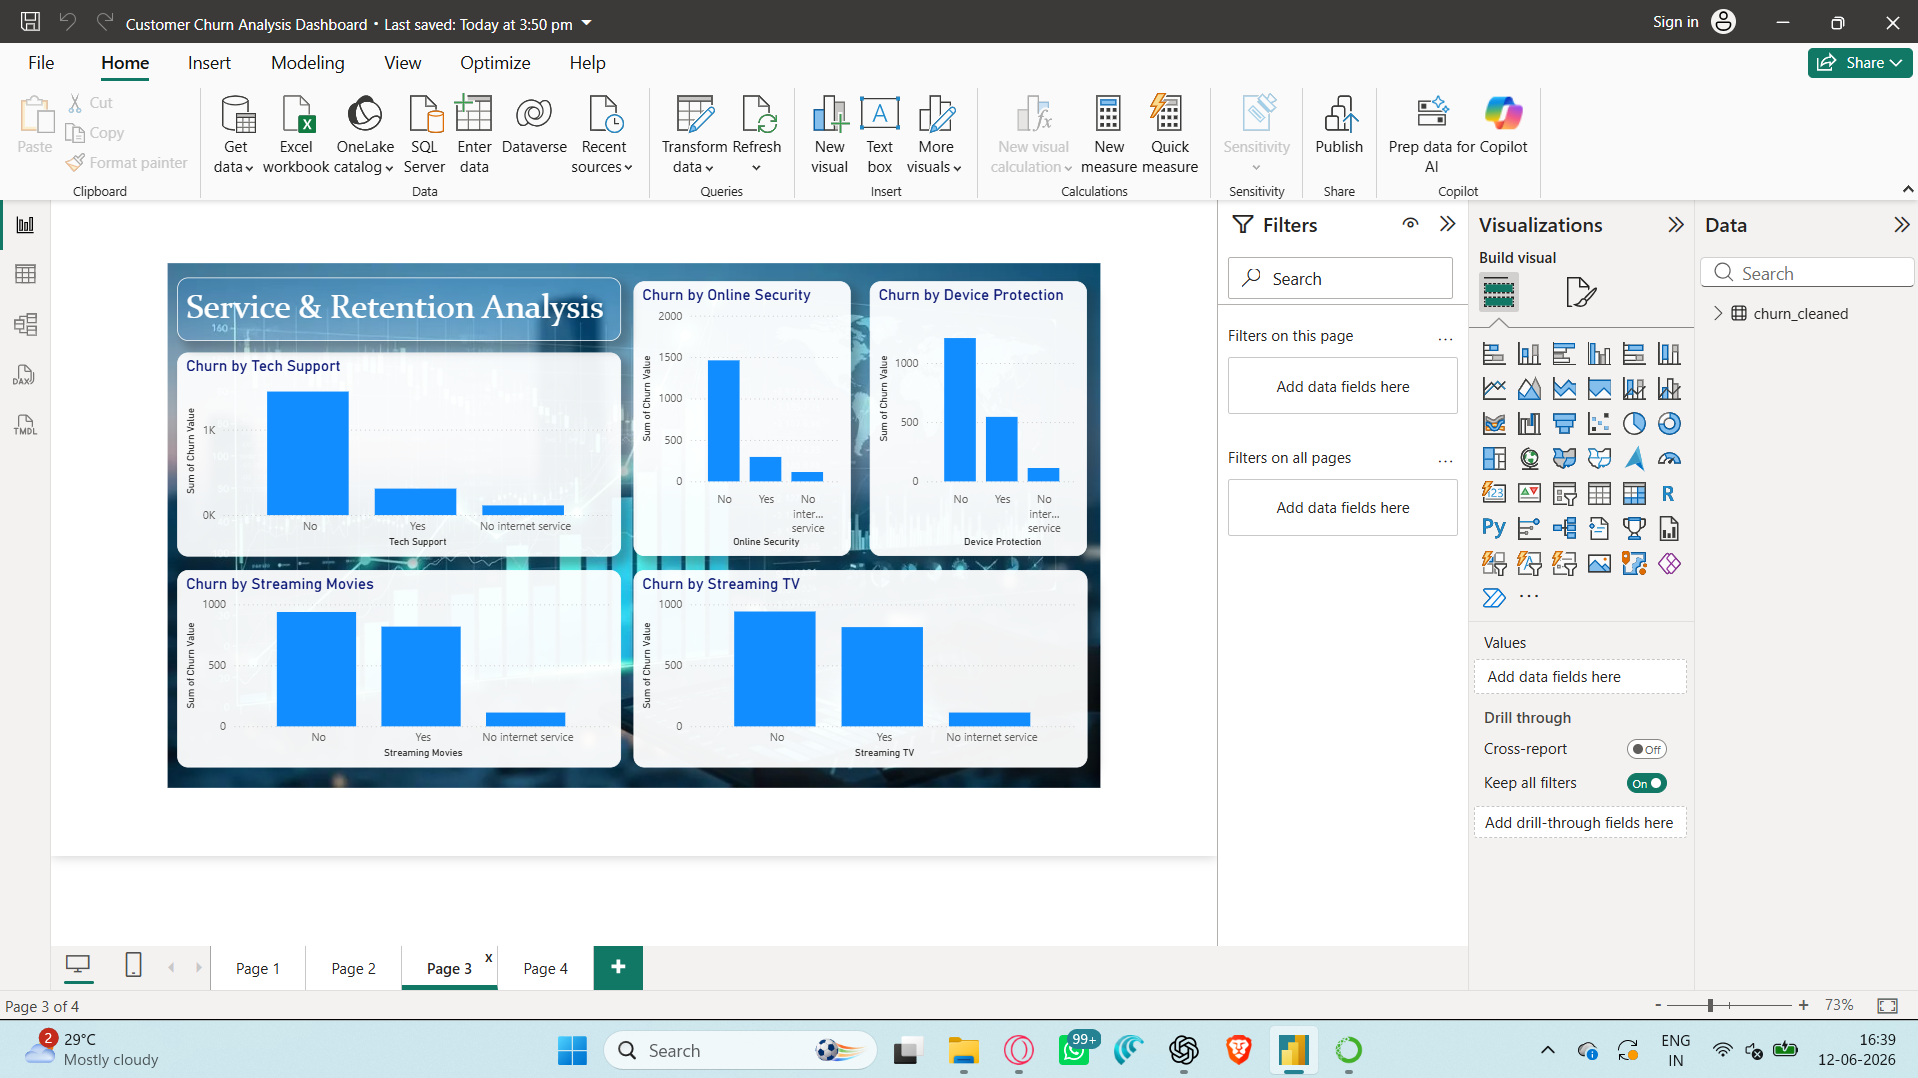

This screenshot's page, from the dashboard's own definition file:
{"tool":"powerbi","page":{"name":"Page 3","canvas":[1280,720],"ordinal":2},"visuals":[{"type":"clusteredColumnChart","title":"Churn by Tech Support","fields":{"Y":["Sum(churn_cleaned.Churn Value)"],"Category":["churn_cleaned.Tech Support"]},"box":[138.6,167.4,487.1,223.7],"z":0},{"type":"clusteredColumnChart","title":"Churn by Online Security","fields":{"Y":["Sum(churn_cleaned.Churn Value)"],"Category":["churn_cleaned.Online Security"]},"box":[639.5,89.2,238.8,301.9],"z":1000},{"type":"clusteredColumnChart","title":"Churn by Device Protection","fields":{"Y":["Sum(churn_cleaned.Churn Value)"],"Category":["churn_cleaned.Device Protection"]},"box":[898.8,89.2,238.8,301.9],"z":2000},{"type":"clusteredColumnChart","title":"Churn by Streaming TV","fields":{"Y":["Sum(churn_cleaned.Churn Value)"],"Category":["churn_cleaned.Streaming TV"]},"box":[639.5,406.2,498.1,216.8],"z":3000},{"type":"clusteredColumnChart","title":"Churn by Streaming Movies","fields":{"Y":["Sum(churn_cleaned.Churn Value)"],"Category":["churn_cleaned.Streaming Movies"]},"box":[138.6,406.2,487.1,216.8],"z":4000},{"type":"textbox","box":[138.6,85.1,487.1,70],"z":5000}]}

Visuals, with their boxes on the page's 1280x720 design canvas (x1, y1, x2, y2). These are canvas units, not pixel positions in the 1918x1078 screenshot, which may show the page scaled, cropped or inside an application window:
"Churn by Tech Support" clusteredColumnChart: 139,167,626,391
"Churn by Online Security" clusteredColumnChart: 640,89,878,391
"Churn by Device Protection" clusteredColumnChart: 899,89,1138,391
"Churn by Streaming TV" clusteredColumnChart: 640,406,1138,623
"Churn by Streaming Movies" clusteredColumnChart: 139,406,626,623
textbox: 139,85,626,155
